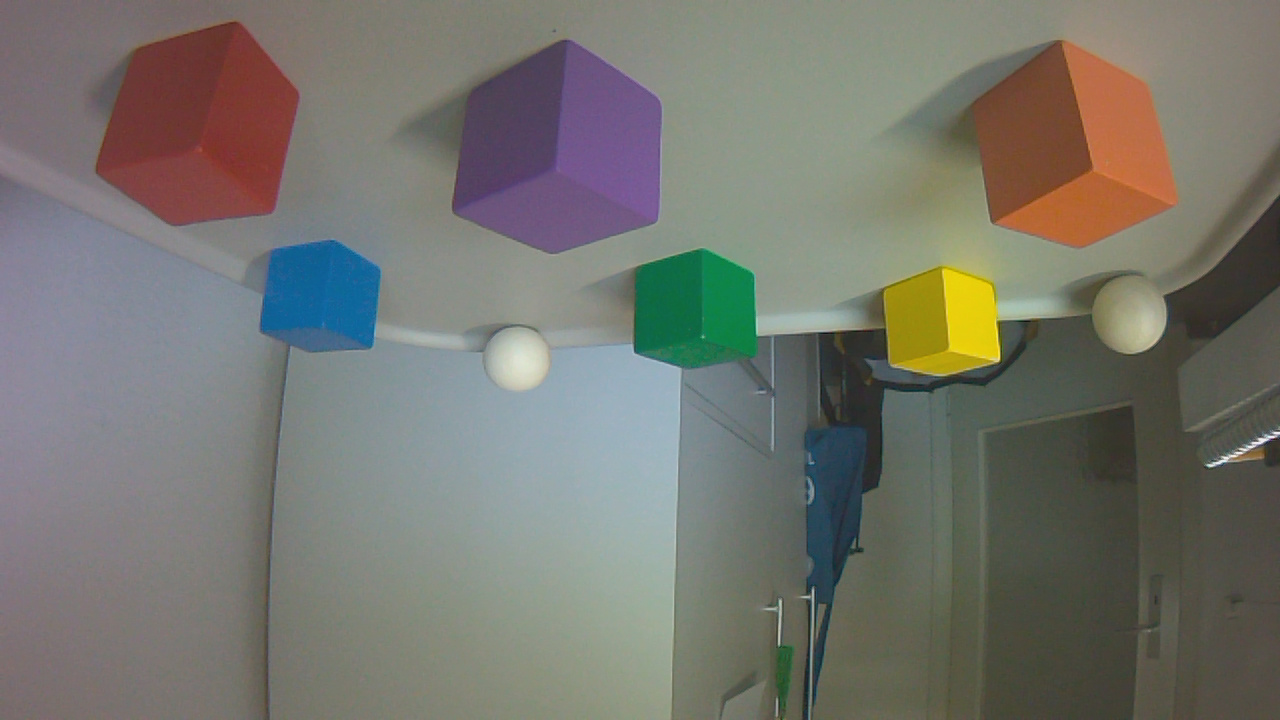ball: (1094, 278, 1172, 361), (486, 328, 558, 400)
cube_blue: (263, 244, 387, 361)
cube_green: (635, 252, 763, 375)
cube_orange: (972, 43, 1184, 257)
cube_purple: (454, 41, 668, 261)
cube_red: (98, 26, 306, 234)
cube_yellow: (884, 269, 1007, 386)
